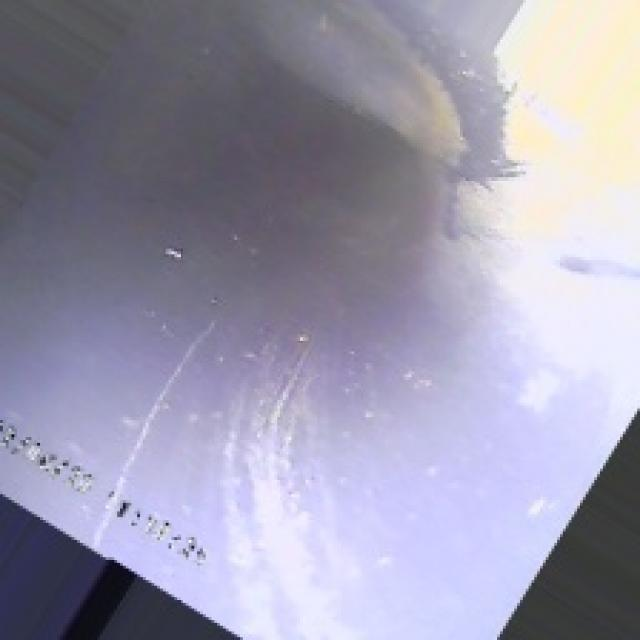shape_deformation: (74, 20, 597, 391)
